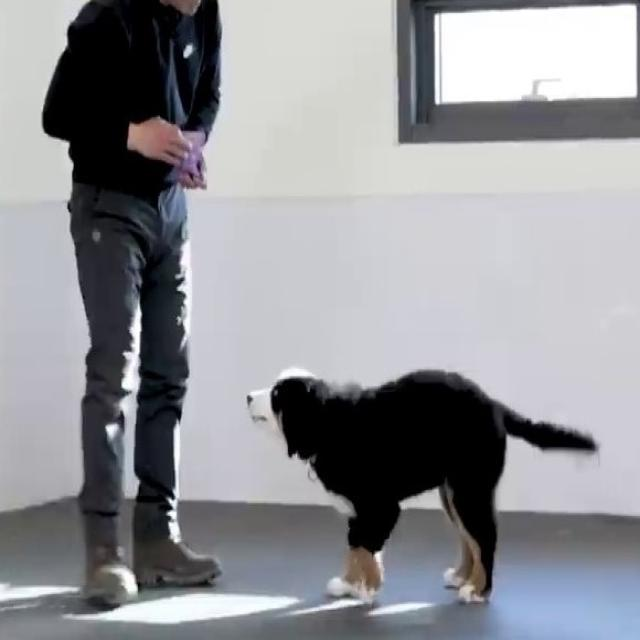Unleashed_Dog: (139, 190, 602, 606)
